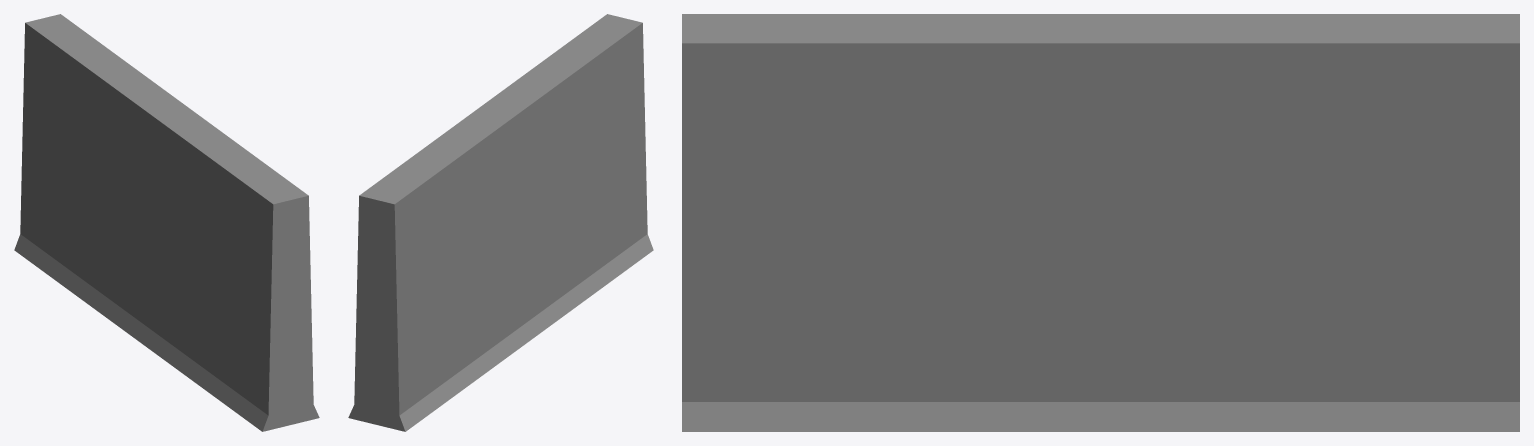
File: RoadPart_03.glb
3 renders of one model, left to right at view 1: azimuth 30°, elevation 25°; view 2: azimuth 150°, elevation 25°; view 3: azimuth 270°, elevation 25°, orthographic. The views are drawn at different scales.
Visible parts, largest first — view 1: RoadPart_03; view 2: RoadPart_03; view 3: RoadPart_03.
Part boxes in pixels (<box>): RoadPart_03: <box>14,14,319,431</box>; RoadPart_03: <box>348,14,653,431</box>; RoadPart_03: <box>682,14,1519,431</box>.
Bounding box in the file's own units: 0.4 × 1.5 × 3.
Materials: 1 (1 with a texture image).
